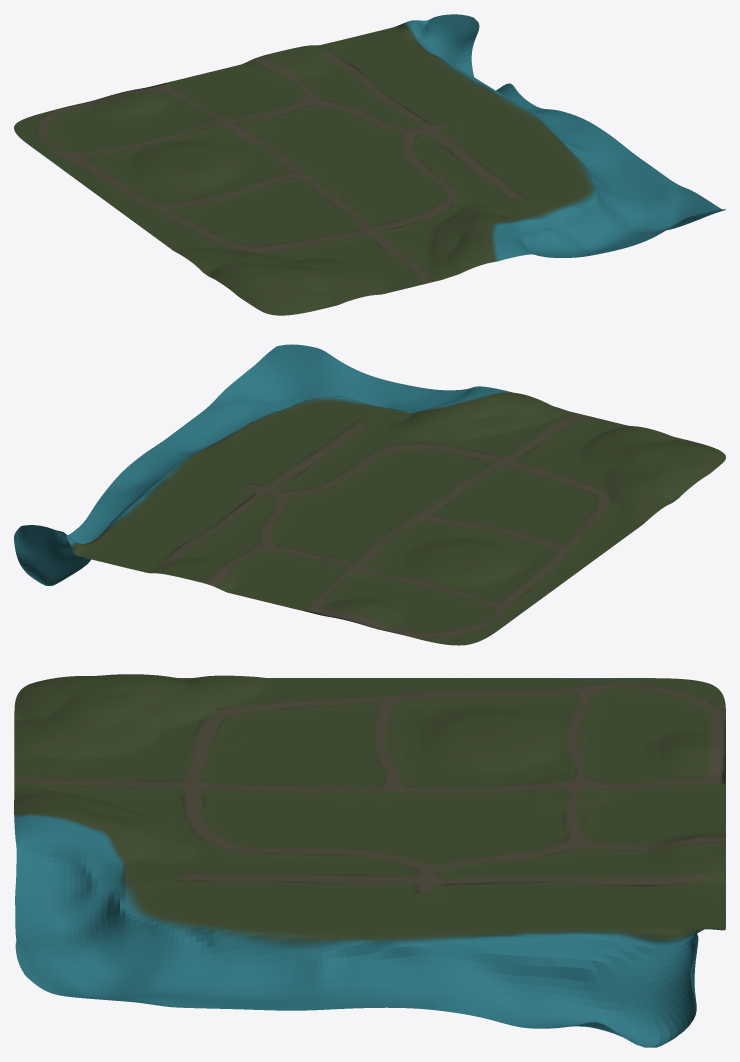
Rendered from Area 2 Map V1.fbx.
3 views of the same model, one above another, from view 1: azimuth 30°, elevation 25°; view 2: azimuth 150°, elevation 25°; view 3: azimuth 270°, elevation 25° (orthographic). The views are drawn at different scales.
Visible parts, largest first — view 1: Area 2; view 2: Area 2; view 3: Area 2.
Part boxes in pixels (x1=…): Area 2: x1=14, y1=14, x2=725, y2=315; Area 2: x1=14, y1=344, x2=725, y2=645; Area 2: x1=14, y1=674, x2=725, y2=1047.
Bounding box in the file's own units: 50089 × 50037 × 7405.
